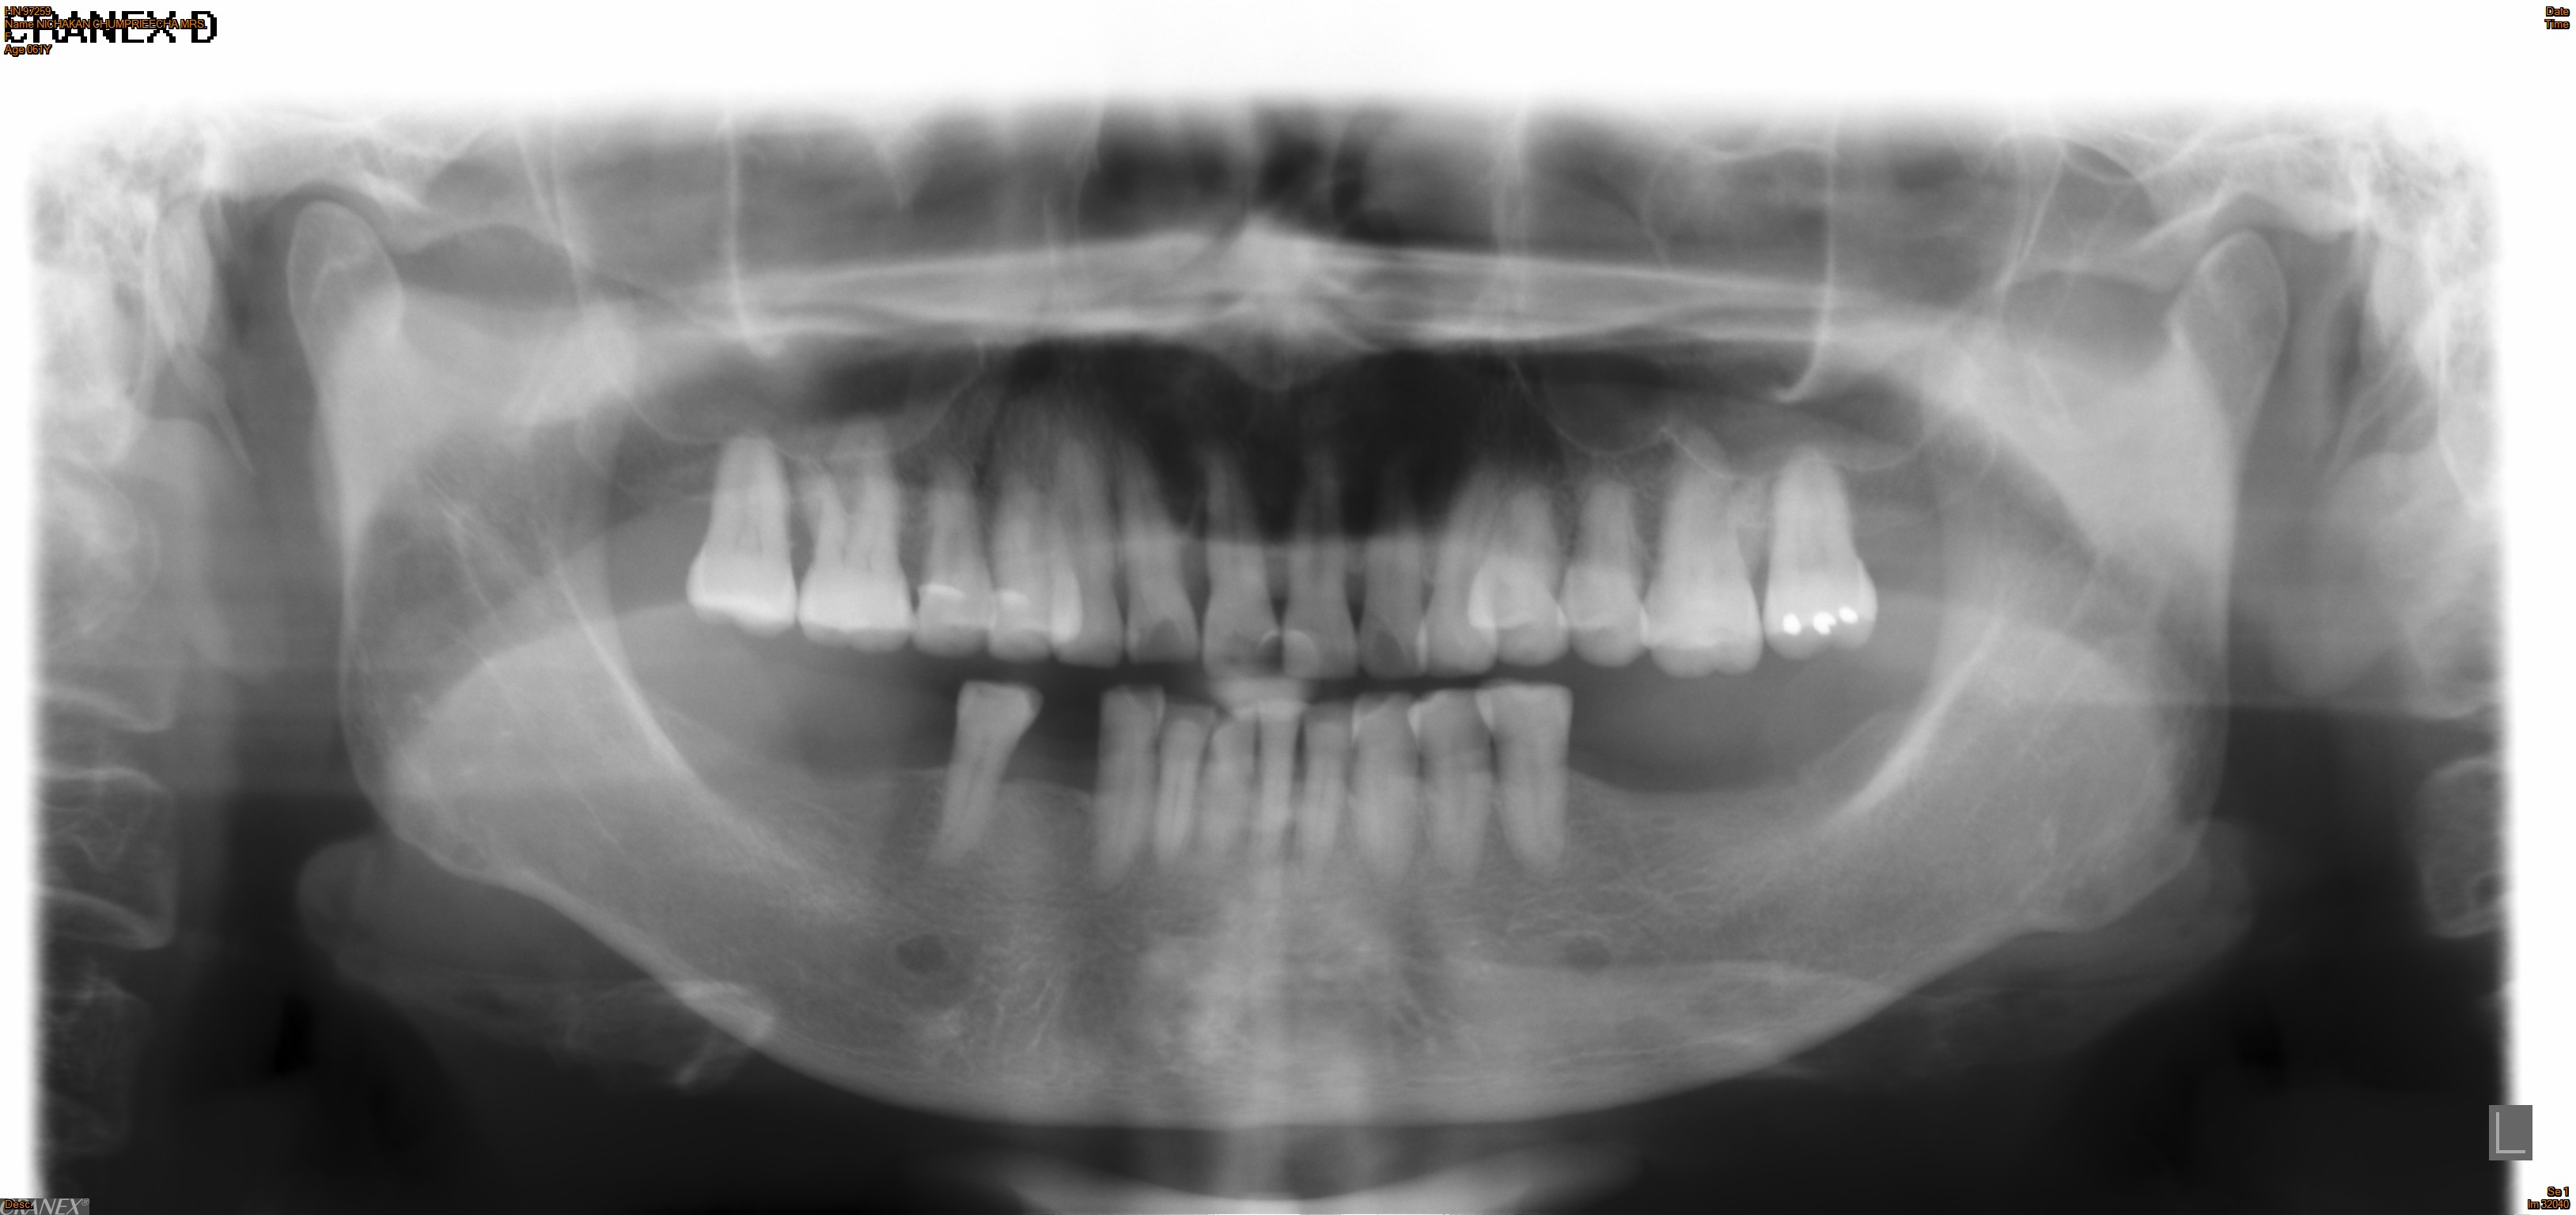periodontitis: (792, 414, 922, 663), (928, 673, 1055, 882), (1472, 675, 1584, 880), (1079, 676, 1180, 900)
